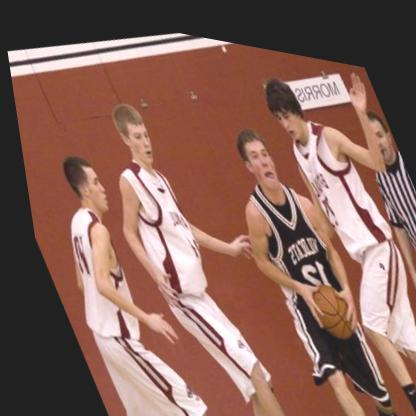basketball: (296, 264, 354, 336)
